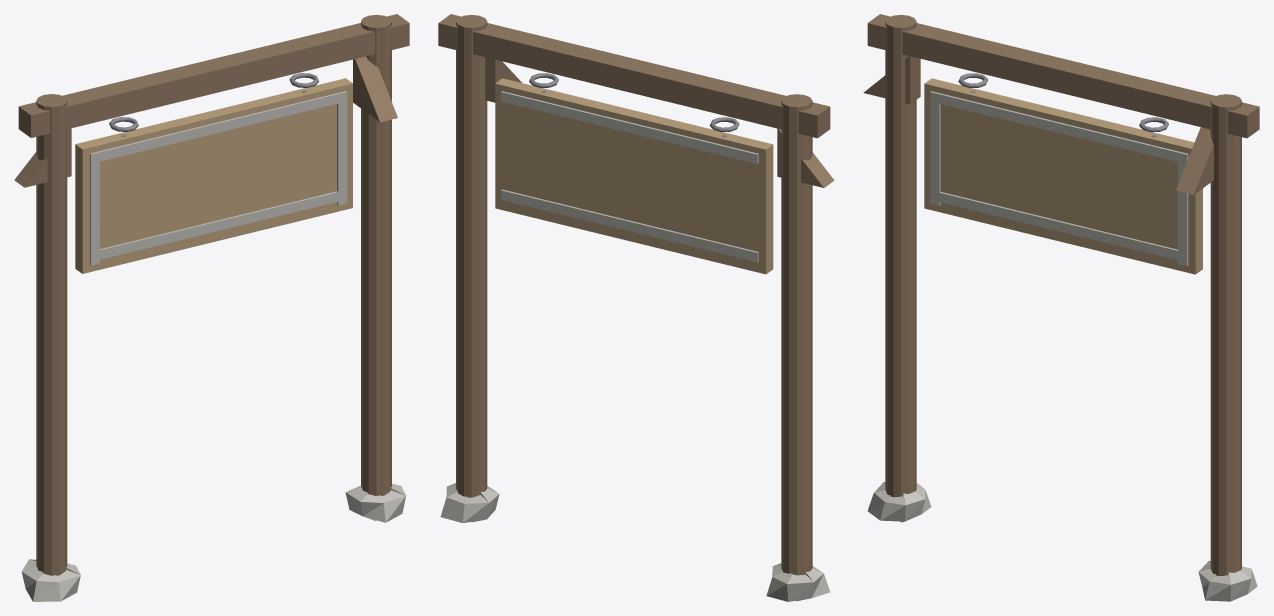
The model's file is korean-hanok-village-and-street-hanging-sign-board-15b20163__38082.glb.
The picture shows the model from 3 angles, left to right: view 1: azimuth 30°, elevation 25°; view 2: azimuth 150°, elevation 25°; view 3: azimuth 330°, elevation 25°; orthographic projection.
Parts seen in each view (by area): view 1: hanging-sign-board; view 2: hanging-sign-board; view 3: hanging-sign-board.
Boxes of the visible parts, left/top/right/bottom form: hanging-sign-board: left=14, top=14, right=409, bottom=601; hanging-sign-board: left=438, top=14, right=834, bottom=601; hanging-sign-board: left=863, top=14, right=1259, bottom=601.
Size of the model in its own units: 2.13 by 2.65 by 0.417.
